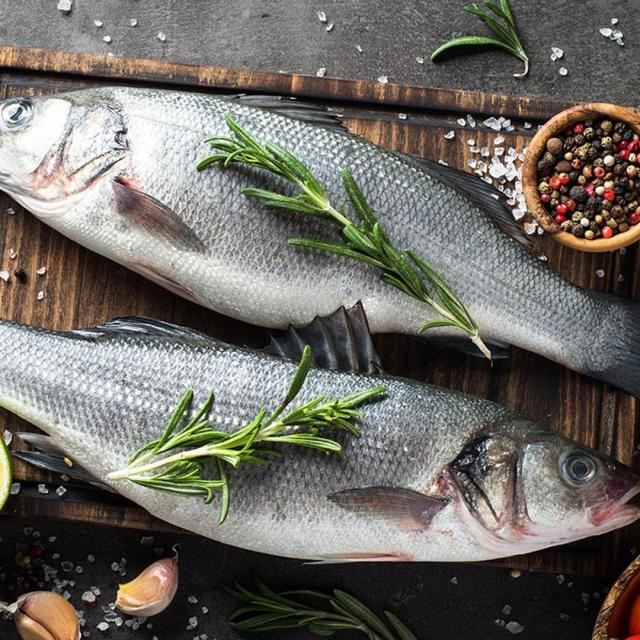pescado: (0, 70, 634, 390), (1, 304, 634, 568)
